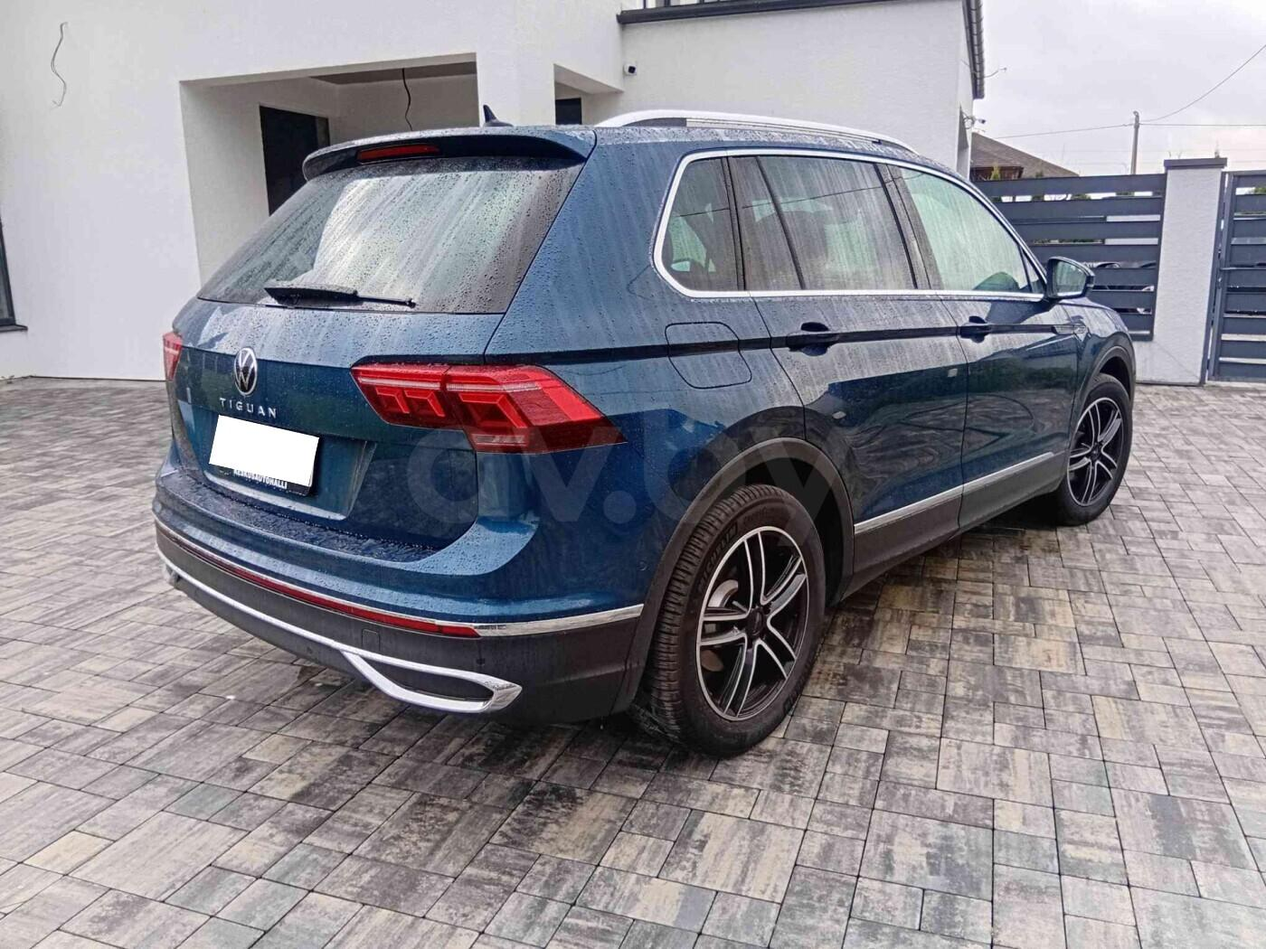Tiguan_2020-2024: (147, 112, 1134, 760)
